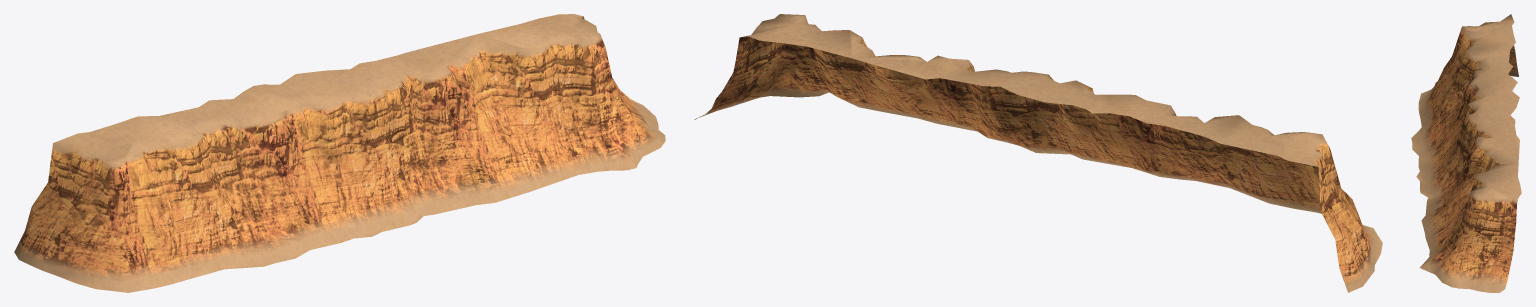
The model's file is Cliff-version_1.fbx.
3 views of the same model, side by side, from view 1: azimuth 30°, elevation 25°; view 2: azimuth 150°, elevation 25°; view 3: azimuth 270°, elevation 25° (orthographic). The views are drawn at different scales.
Parts seen in each view (by area): view 1: low.001; view 2: low.001; view 3: low.001.
Boxes of the visible parts, x1=… form: low.001: x1=14, y1=14, x2=665, y2=292; low.001: x1=694, y1=14, x2=1382, y2=292; low.001: x1=1411, y1=14, x2=1521, y2=292.
Size of the model in its own units: 1190 by 201 by 256.
